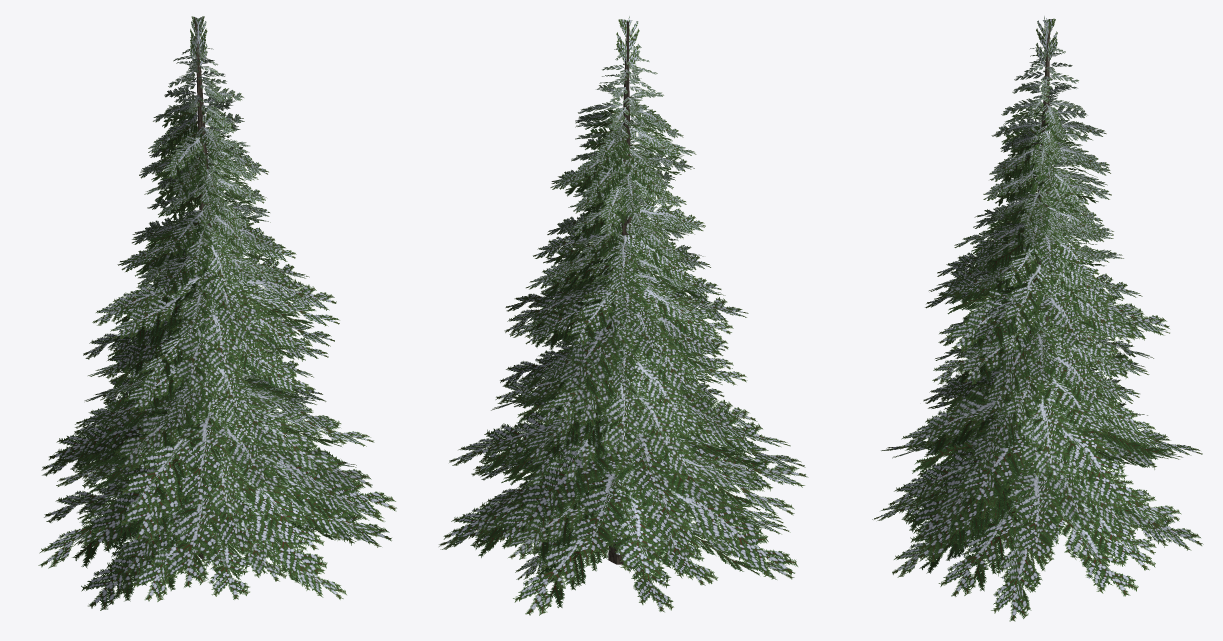
File: w_fir1.glb
The picture shows the model from 3 angles, left to right: view 1: azimuth 30°, elevation 25°; view 2: azimuth 150°, elevation 25°; view 3: azimuth 270°, elevation 25°; orthographic projection. The views are drawn at different scales.
Visible parts, largest first — view 1: w_fir1; view 2: w_fir1; view 3: w_fir1.
Boxes of the visible parts, x1,y1,x2,y2 form: w_fir1: (38,16,396,610); w_fir1: (439,16,808,615); w_fir1: (872,16,1203,621).
Size of the model in its own units: 5.8 by 9.31 by 5.46.
2 materials, 2 textured.
